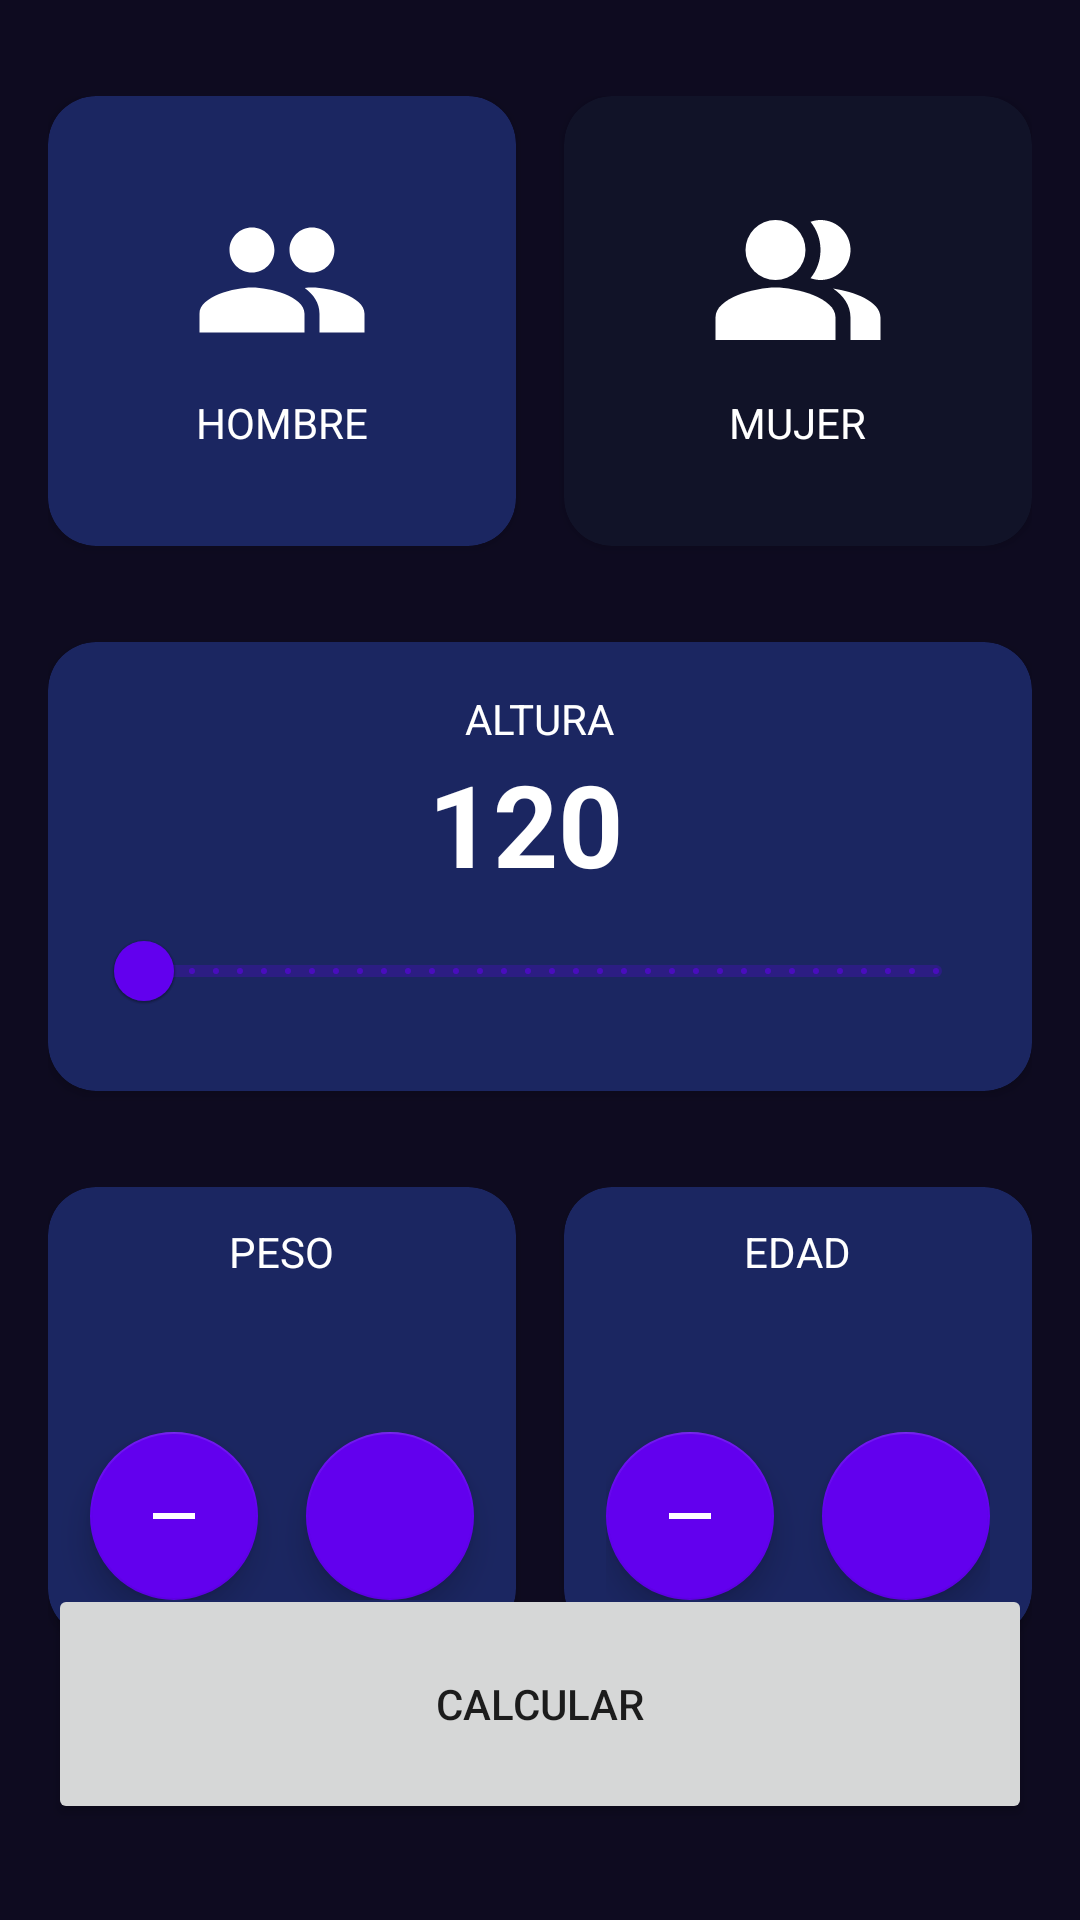

Named icons in this screenshot (1080w x 1920h) and their centers, point (x, y):
people: point (282, 280)
restar: point (174, 1516), point (690, 1516)
